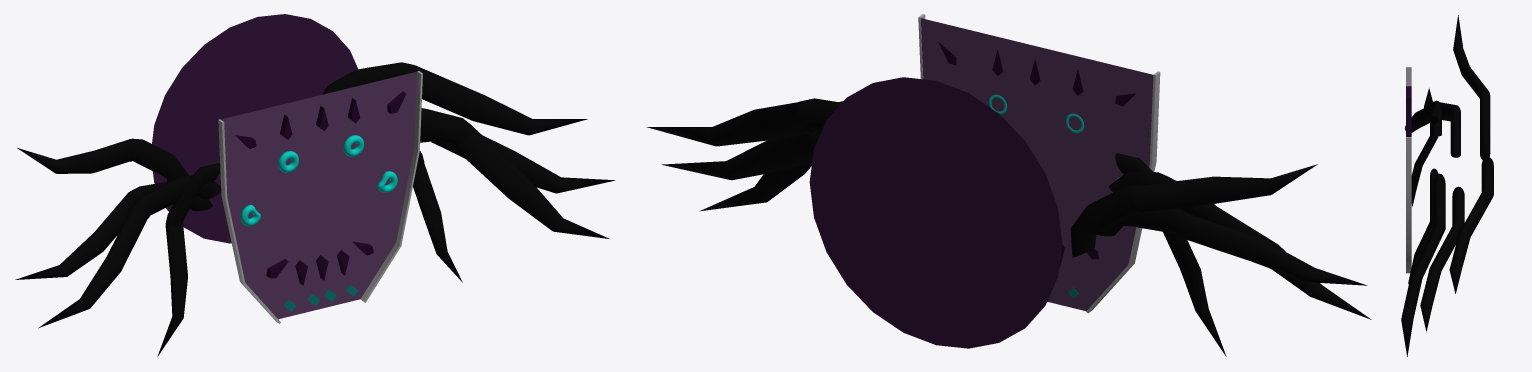
Rendered from Spider.fbx.
3 views of the same model, side by side, from view 1: azimuth 30°, elevation 25°; view 2: azimuth 150°, elevation 25°; view 3: azimuth 270°, elevation 25° (orthographic). The views are drawn at different scales.
Parts seen in each view (by area): view 1: pPlane1, pDisc1, pCone3, pCone5, pCone8, pCone6, pCone1, pCone7, pCone4, pCone2, pCube7, pCube1; view 2: pDisc1, pPlane1, pCone6, pCone7, pCone5, pCone4, pCone8, pCone1, pCone3, pCube1; view 3: pCone3, pCone4, pCone5, pCone6, pCone7, pCube7, pCone1, pCone8, pCone2, pCube1.
Part boxes in pixels (<box>): pPlane1: <box>221,71,417,319</box>; pDisc1: <box>152,14,358,243</box>; pCone3: <box>420,108,609,238</box>; pCone5: <box>322,62,587,135</box>; pCone8: <box>38,175,221,328</box>; pCone6: <box>17,138,188,181</box>; pCone1: <box>157,163,220,357</box>; pCone7: <box>15,181,212,279</box>; pCone4: <box>420,135,615,193</box>; pCone2: <box>413,151,462,282</box>; pCube7: <box>360,71,422,302</box>; pCube1: <box>218,119,280,323</box>; pDisc1: <box>809,77,1062,348</box>; pPlane1: <box>921,18,1153,311</box>; pCone6: <box>1070,164,1317,257</box>; pCone7: <box>1096,208,1367,285</box>; pCone5: <box>646,98,841,146</box>; pCone4: <box>662,131,820,180</box>; pCone8: <box>1109,171,1371,319</box>; pCone1: <box>1115,153,1226,356</box>; pCone3: <box>699,101,843,211</box>; pCube1: <box>1086,71,1160,313</box>; pCone3: <box>1401,173,1445,356</box>; pCone4: <box>1420,186,1464,332</box>; pCone5: <box>1449,156,1493,293</box>; pCone6: <box>1453,15,1490,159</box>; pCone7: <box>1424,88,1460,157</box>; pCube7: <box>1406,137,1411,273</box>; pCone1: <box>1411,109,1438,206</box>; pCone8: <box>1405,100,1441,136</box>; pCone2: <box>1408,168,1438,284</box>; pCube1: <box>1406,67,1411,86</box>.
Size of the model in its own units: 90.01 by 35.16 by 20.93.
